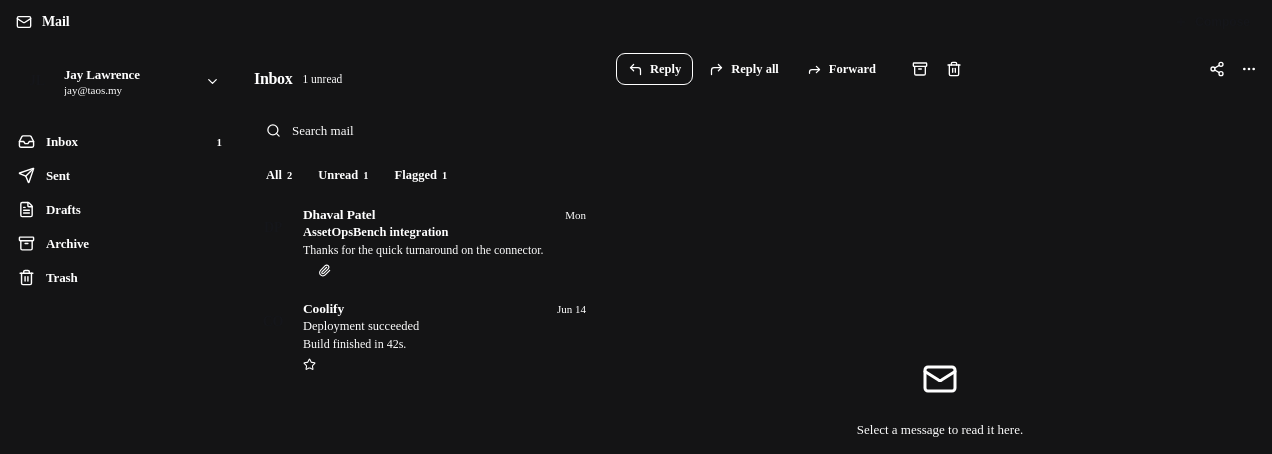
Test case: MailApp › filters to unread when the Unread tab is selected
Expected: the text "AssetOpsBench integration" is shown, [303, 224, 448, 238]
Step 1. Click the tab "Unread1" → (343, 176), box [306, 160, 380, 194]
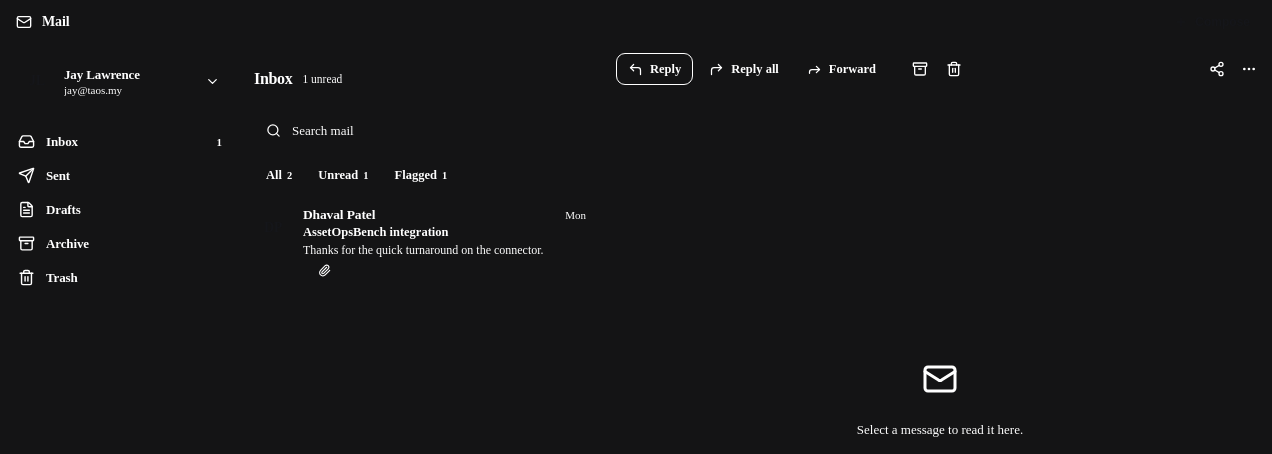
Expected: the text "AssetOpsBench integration" is shown, [303, 224, 448, 238]
Expected: the list item "Deployment succeeded" is gone
